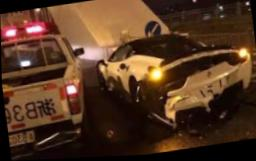Bumper: (155, 58, 248, 128)
Dickey: (157, 44, 240, 87)
